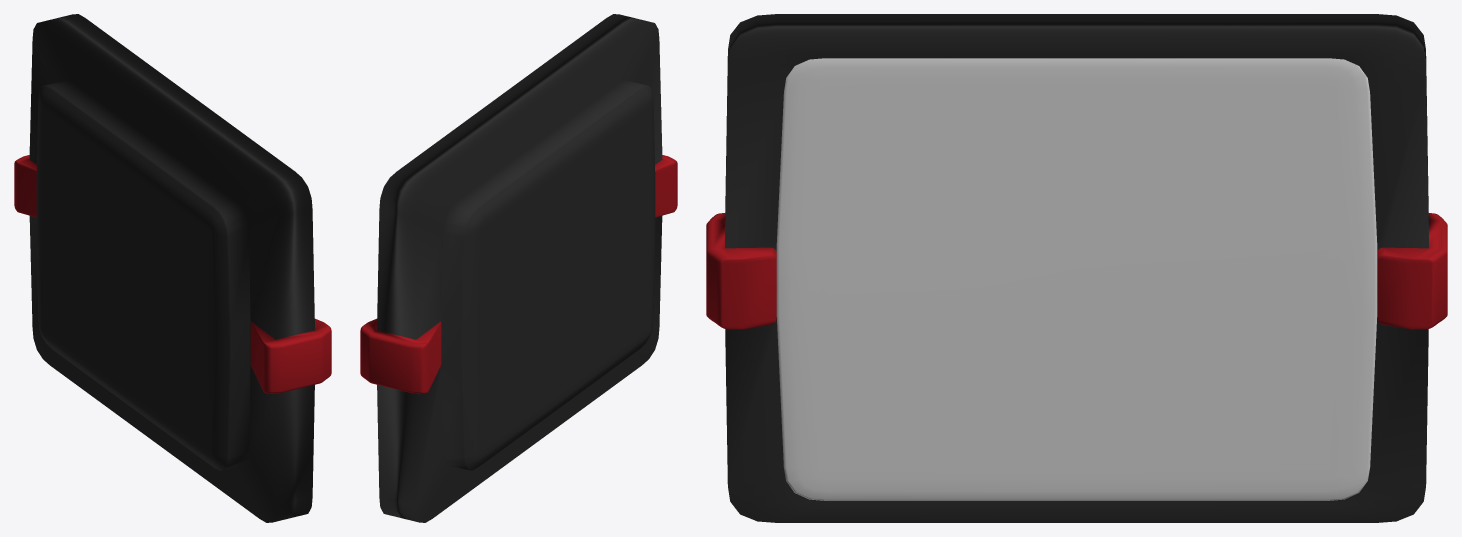
The model's file is prop s jam ecran.fbx.
3 views of the same model, side by side, from view 1: azimuth 30°, elevation 25°; view 2: azimuth 150°, elevation 25°; view 3: azimuth 270°, elevation 25° (orthographic). The views are drawn at different scales.
Parts seen in each view (by area): view 1: Cube.013; view 2: Cube.013; view 3: Cube.013.
Part boxes in pixels (box(x1,y1,x2,y2)): Cube.013: box(14, 14, 331, 522); Cube.013: box(360, 14, 677, 522); Cube.013: box(706, 14, 1447, 522).
Bounding box in the file's own units: 59.67 × 239 × 332.
